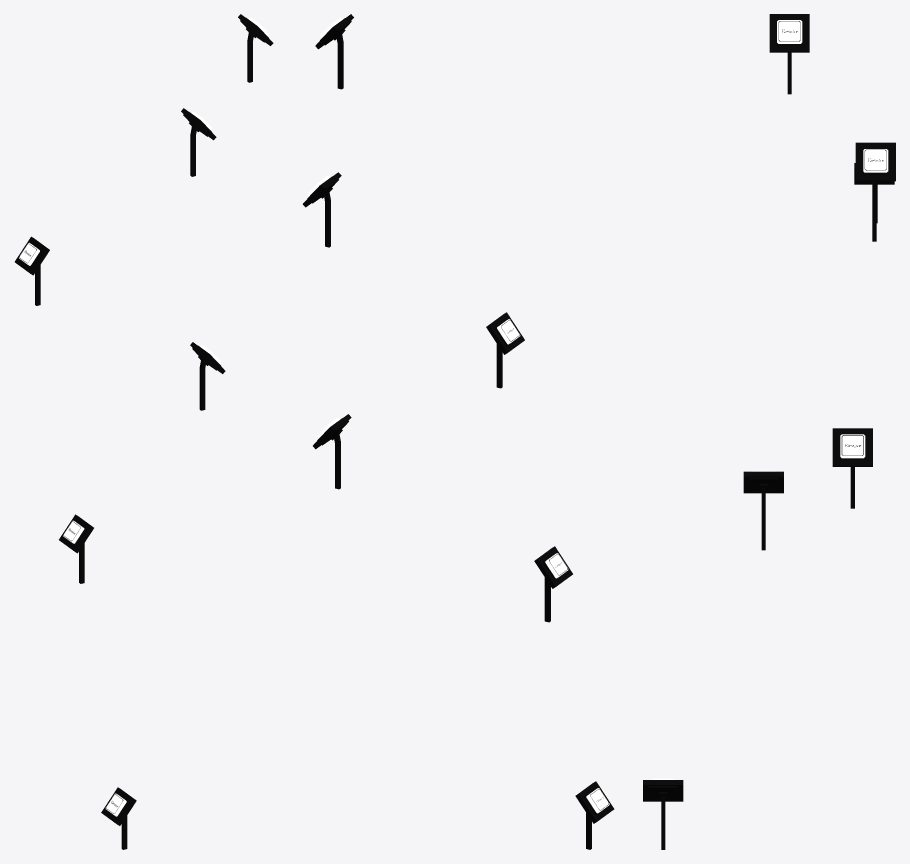
File: buttons.glb
The picture shows the model from 3 angles, left to right: view 1: azimuth 30°, elevation 25°; view 2: azimuth 150°, elevation 25°; view 3: azimuth 270°, elevation 25°; orthographic projection. The views are drawn at different scales.
Parts seen in each view (by area): view 1: 3, 1, 0, 2, 4, 5; view 2: 1, 3, 0, 5, 2, 4; view 3: 4, 2, 5, 1, 0.
Part boxes in pixels (box(x1,y1,x2,y2)): 3: box(15, 236, 49, 305); 1: box(59, 514, 93, 583); 0: box(101, 787, 136, 849); 2: box(190, 342, 225, 410); 4: box(181, 108, 216, 176); 5: box(238, 14, 273, 82); 1: box(534, 546, 572, 622); 3: box(486, 312, 524, 388); 0: box(575, 781, 614, 849); 5: box(315, 14, 353, 89); 2: box(313, 414, 351, 489); 4: box(303, 172, 341, 247); 4: box(855, 142, 895, 223); 2: box(832, 428, 872, 508); 5: box(769, 14, 809, 94); 1: box(743, 470, 783, 550); 0: box(643, 778, 683, 849).
Size of the model in its own units: 7.71 by 26.39 by 6.42.
2 materials, 2 textured.
